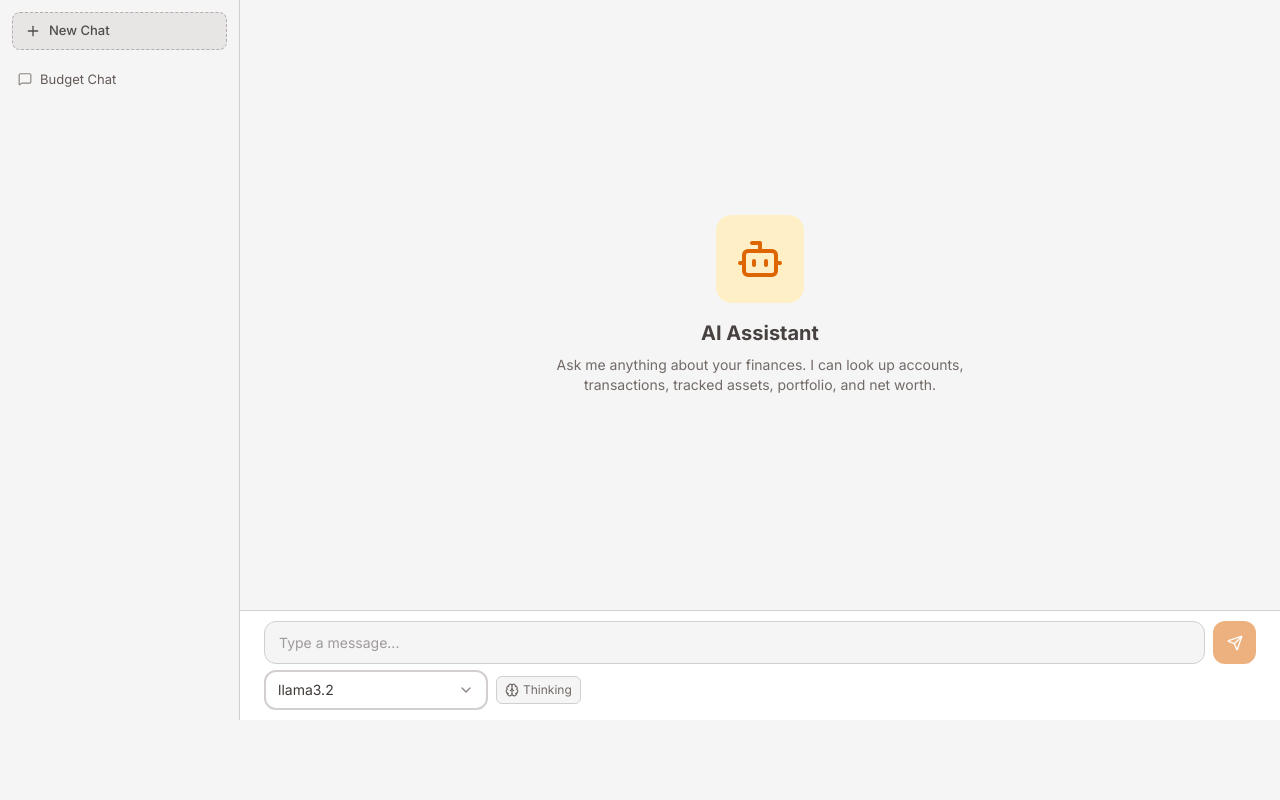
Test: ChatView › renders loaded messages in the conversation view
Click the text "Budget Chat".
click(78, 78)  # box x1=40 y1=70 x2=116 y2=86
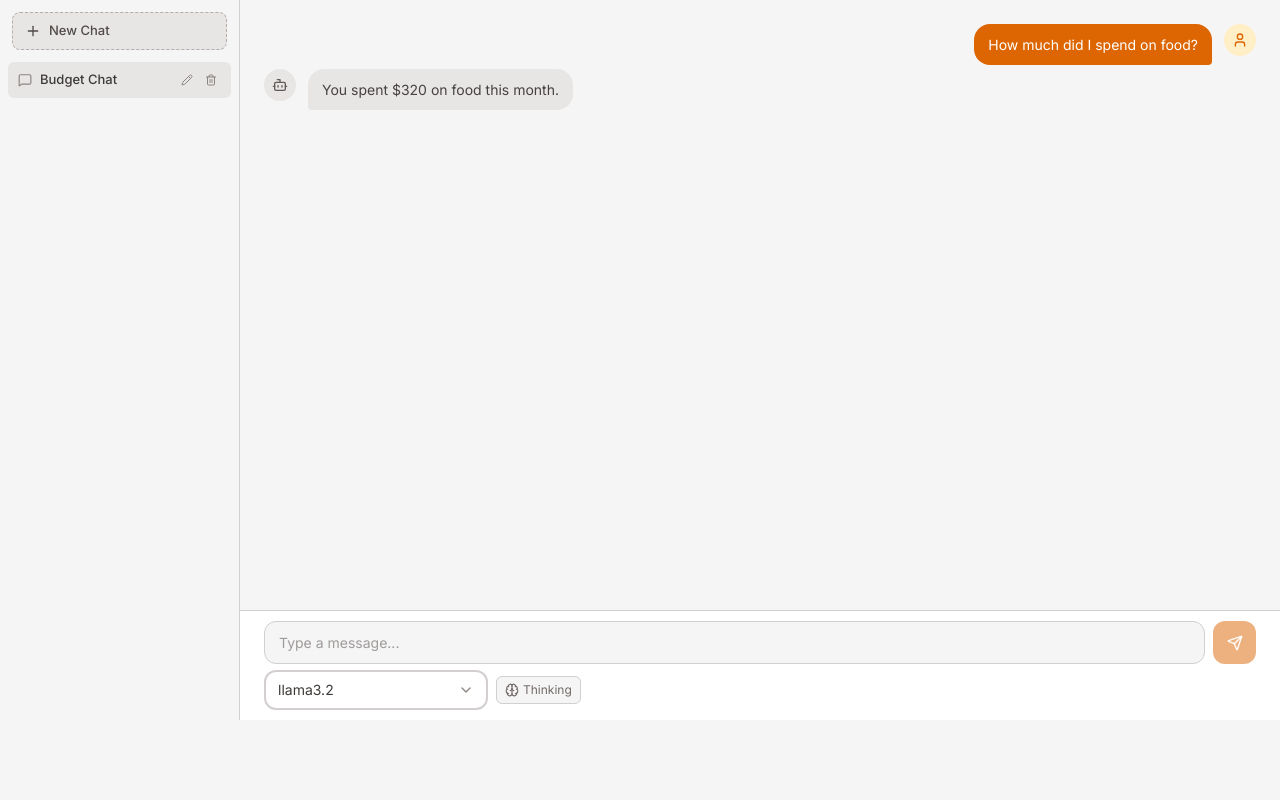
Check: the text "How much did I spend on food?" is shown, box x1=988 y1=34 x2=1198 y2=55
Check: the text "You spent $320 on food this month." is shown, box x1=322 y1=79 x2=559 y2=100
